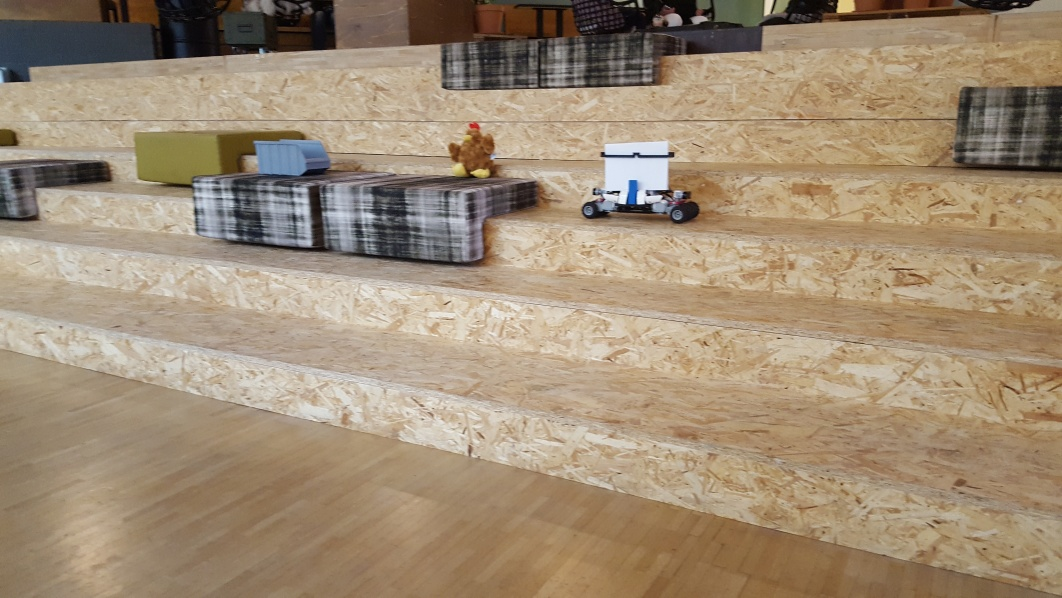beam: (625, 177, 638, 211)
chicken: (447, 122, 498, 181)
tray: (250, 137, 333, 175)
